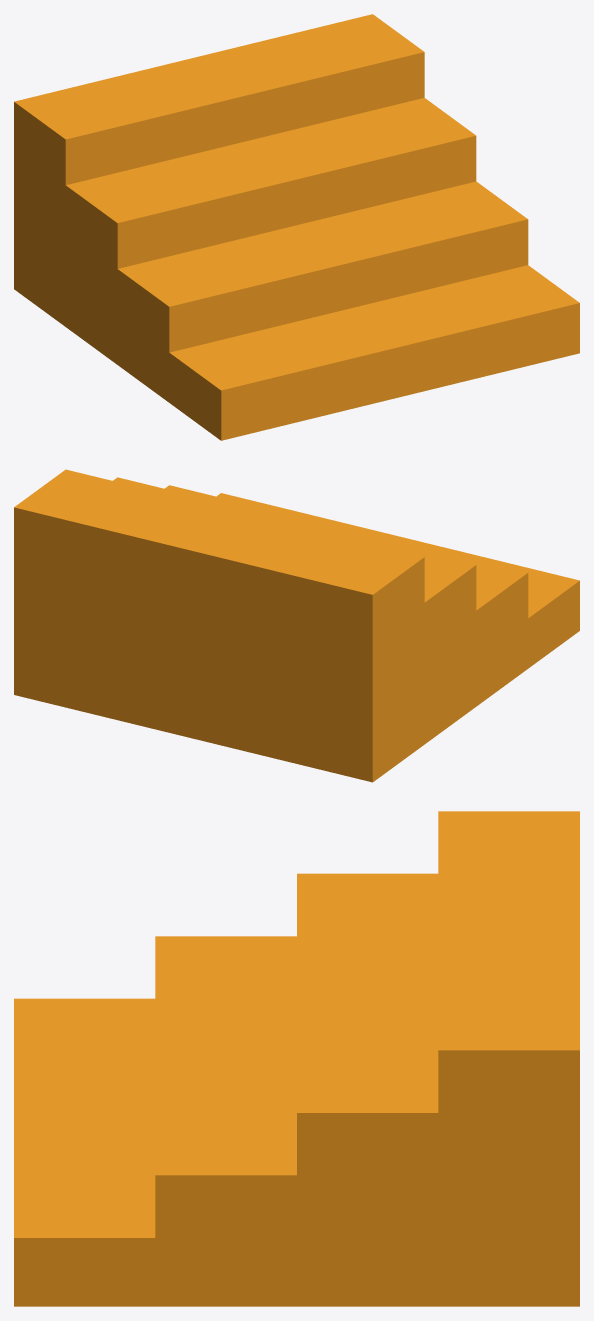
The model's file is SM_Buildings_Stairs_1x1_01.fbx.
3 views of the same model, one above another, from view 1: azimuth 30°, elevation 25°; view 2: azimuth 150°, elevation 25°; view 3: azimuth 270°, elevation 25° (orthographic). The views are drawn at different scales.
Visible parts, largest first — view 1: SM_Buildings_Stairs_1x1_01; view 2: SM_Buildings_Stairs_1x1_01; view 3: SM_Buildings_Stairs_1x1_01.
Part boxes in pixels (bbox=[...]): SM_Buildings_Stairs_1x1_01: bbox=[14, 14, 579, 440]; SM_Buildings_Stairs_1x1_01: bbox=[14, 469, 579, 782]; SM_Buildings_Stairs_1x1_01: bbox=[14, 811, 579, 1306].
Size of the model in its own units: 100 by 49.95 by 100.
